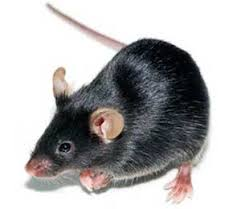mice: (22, 3, 211, 204)
